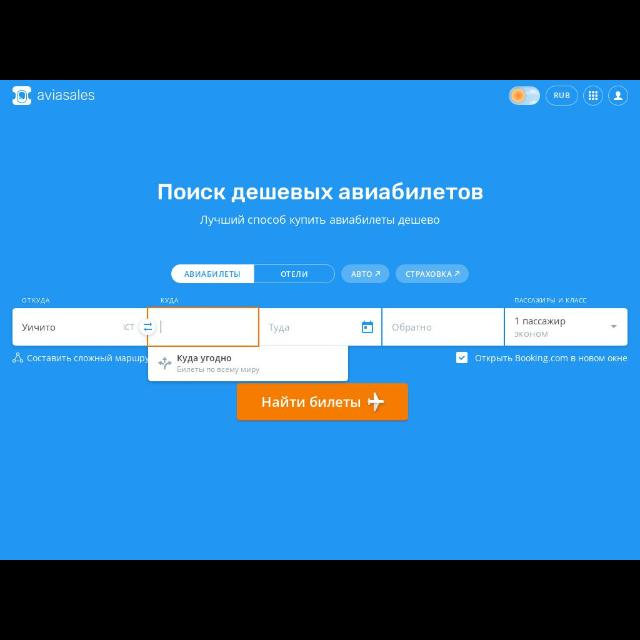button: (608, 86, 628, 105), (584, 86, 602, 105)
checkbox: (457, 352, 468, 362)
icon: (158, 357, 172, 371), (362, 320, 374, 334), (13, 352, 23, 366), (588, 91, 598, 101), (143, 322, 153, 332), (614, 91, 622, 101), (454, 270, 461, 278), (376, 272, 382, 278), (610, 325, 616, 329)
image: (12, 84, 32, 106), (368, 392, 386, 412)
input: (382, 309, 504, 345), (148, 308, 260, 347)
spinner: (504, 309, 628, 346)
switch: (510, 87, 540, 105)
text: (159, 183, 483, 201), (201, 216, 439, 227), (29, 354, 149, 366), (476, 355, 626, 363), (262, 396, 362, 408), (176, 365, 260, 375), (38, 90, 94, 102), (178, 352, 232, 364), (515, 316, 565, 326), (22, 322, 56, 334), (392, 322, 432, 332), (184, 272, 242, 278), (515, 329, 547, 338), (406, 272, 452, 278), (268, 321, 290, 333), (282, 270, 308, 280), (21, 298, 51, 304), (352, 271, 372, 279), (160, 298, 180, 304), (122, 324, 136, 332)
textbutton: (238, 384, 410, 421), (172, 262, 256, 284), (254, 262, 336, 284), (396, 264, 468, 284), (342, 265, 388, 283), (545, 84, 579, 106)
